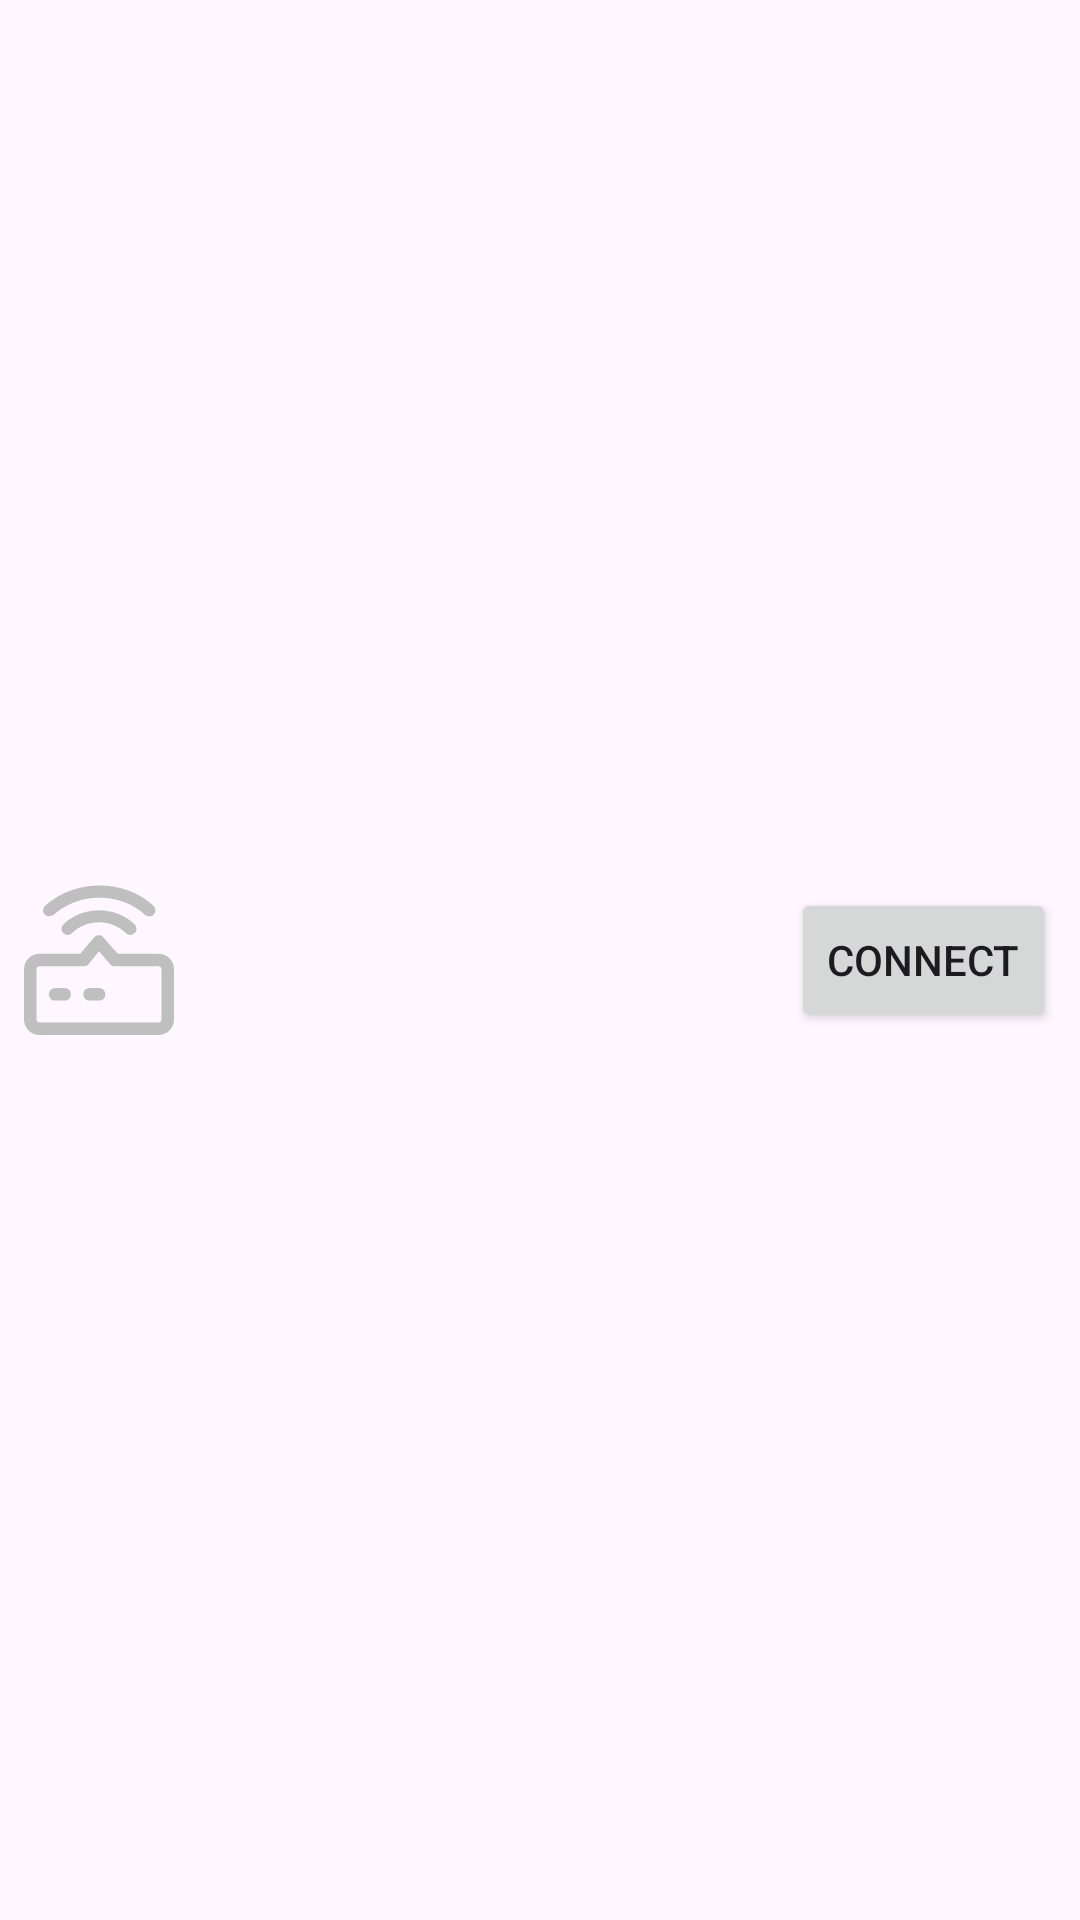

Named icons in this screenshot (1080 × 1920) and their centers, [x,y]:
device: [99,960]
